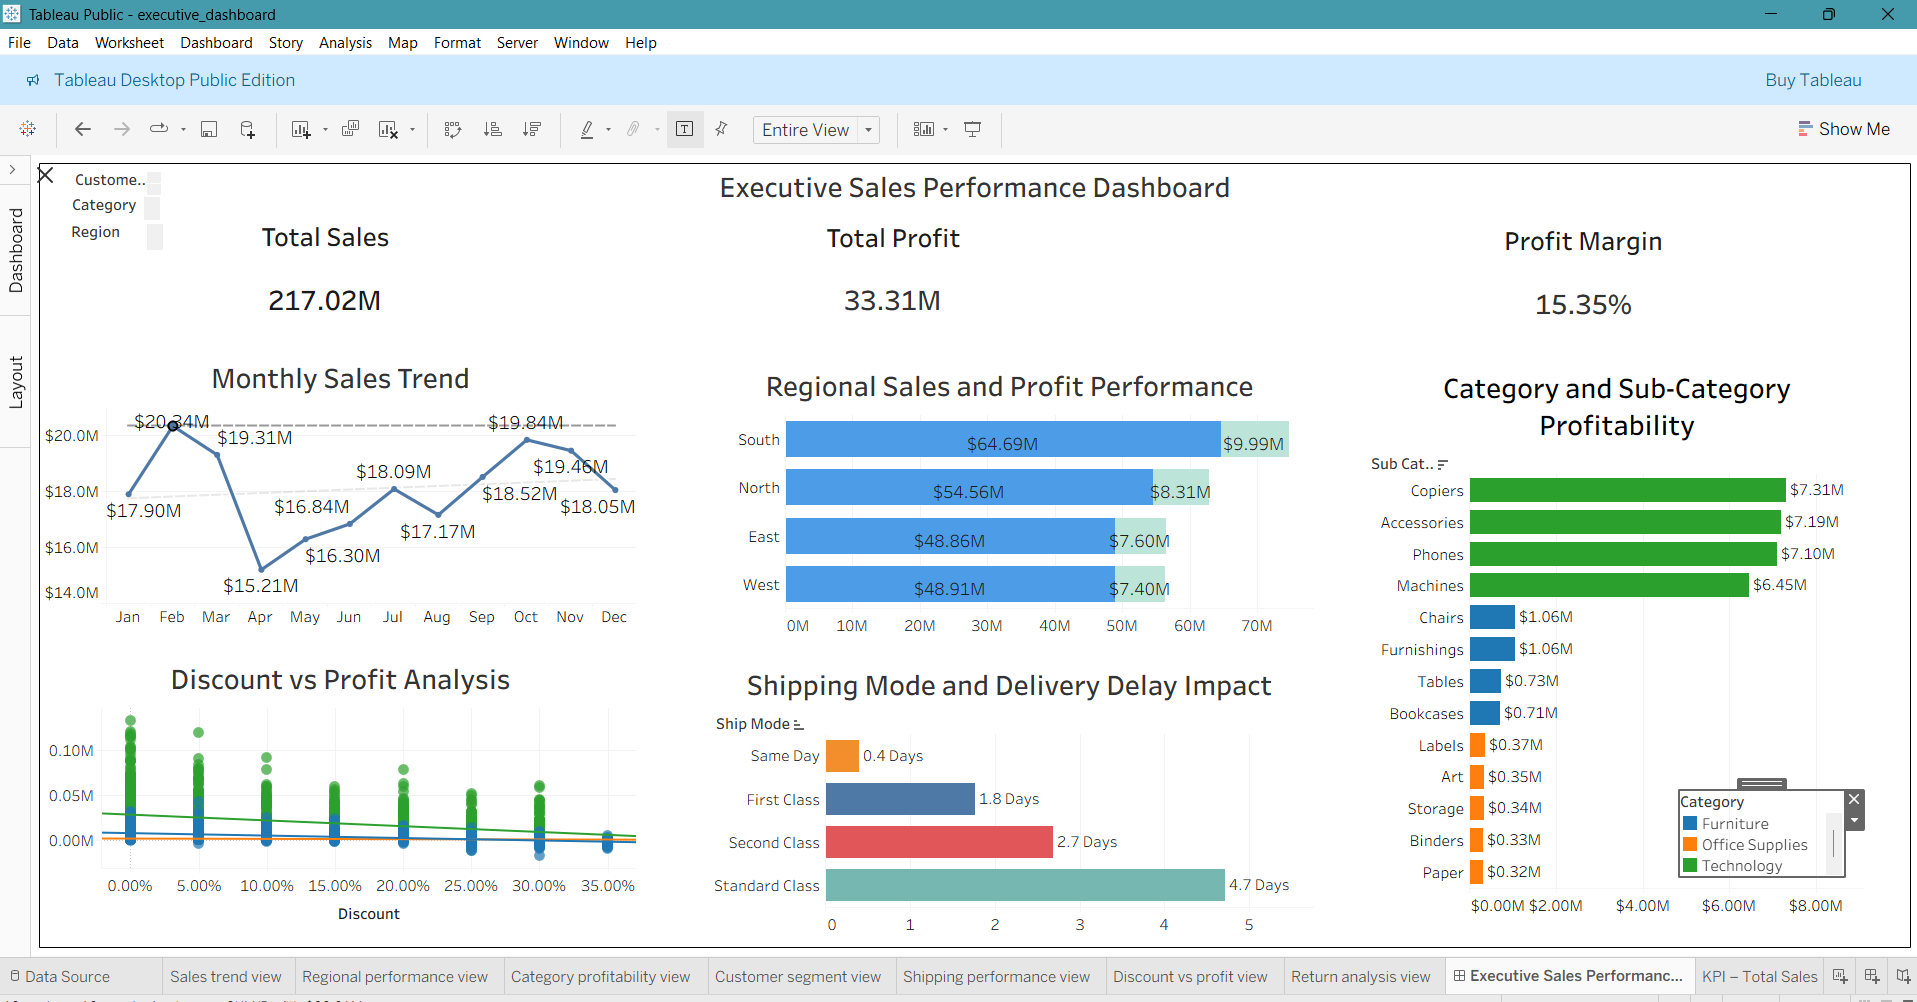

The dashboard page shown, as its layout file describes it:
{"tool":"tableau","page":{"name":"Executive Sales Performance Dashboard","canvas":[1000,1000],"units":"permille","ordinal":0},"visuals":[{"type":"dashboard-object","box":[0,9.9,14.9,29.7]},{"type":"title","box":[4.8,11.2,990.5,56.2]},{"type":"filter","title":"Sales trend view","param":"[federated.00t6yae0oo85561c1nmbn0elvlnn].[none:customer_segment:nk]","box":[23.3,17.3,45.6,32.2]},{"type":"filter","title":"Sales trend view","param":"[federated.00t6yae0oo85561c1nmbn0elvlnn].[none:category:nk]","box":[21.7,48.3,46.6,33.4]},{"type":"worksheet","title":"KPI – Total Sales","mark":"Automatic","box":[93.8,75.5,124.2,148.5]},{"type":"worksheet","title":"KPI - Total Profit","mark":"Automatic","box":[394.4,75.5,124.2,148.5]},{"type":"worksheet","title":"KPI - Profit Margin","mark":"Automatic","box":[760.2,80.5,124.2,148.5]},{"type":"filter","title":"Sales trend view","param":"[federated.00t6yae0oo85561c1nmbn0elvlnn].[none:region:nk]","box":[21.2,82.9,48.7,35.9]},{"type":"worksheet","title":"Sales trend view","mark":"Line","rows":["sales"],"cols":["order_date"],"box":[5.6,250,316.2,346.5]},{"type":"worksheet","title":"Regional performance view","mark":"Bar","rows":["region"],"box":[355.9,259.9,324.8,342.8]},{"type":"worksheet","title":"Category profitability view","mark":"Automatic","rows":["sub_category"],"cols":["profit"],"box":[707.5,262.4,264.6,690.6]},{"type":"worksheet","title":"Discount vs profit view","mark":"Circle","rows":["profit"],"cols":["discount"],"box":[5.6,625,316.2,342.8]},{"type":"worksheet","title":"Shipping performance view","mark":"Automatic","rows":["ship_mode"],"cols":["delivery_days"],"box":[355.9,632.4,324.8,342.8]},{"type":"legend","title":"Category profitability view","param":"[federated.00t6yae0oo85561c1nmbn0elvlnn].[none:category:nk]","box":[873.3,794.6,87,105.2]}]}

Visuals, with their boxes on the dashboard's canvas, which has no fixed pixel size, in thousandths of its width and height (x1, y1, x2, y2). These are canvas units, not pixel positions in the 1917x1002 screenshot, which may show the page scaled, cropped or inside an application window:
dashboard-object: 0, 10, 15, 40
title: 5, 11, 995, 67
"Sales trend view" filter: 23, 17, 69, 50
"Sales trend view" filter: 22, 48, 68, 82
"KPI – Total Sales" worksheet: 94, 76, 218, 224
"KPI - Total Profit" worksheet: 394, 76, 519, 224
"KPI - Profit Margin" worksheet: 760, 80, 884, 229
"Sales trend view" filter: 21, 83, 70, 119
"Sales trend view" worksheet (Line marks): 6, 250, 322, 596
"Regional performance view" worksheet (Bar marks): 356, 260, 681, 603
"Category profitability view" worksheet: 708, 262, 972, 953
"Discount vs profit view" worksheet (Circle marks): 6, 625, 322, 968
"Shipping performance view" worksheet: 356, 632, 681, 975
"Category profitability view" legend: 873, 795, 960, 900
